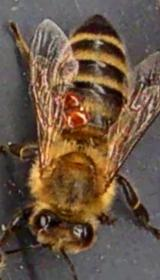varroa_mite: (58, 85, 86, 108), (63, 106, 92, 128)
